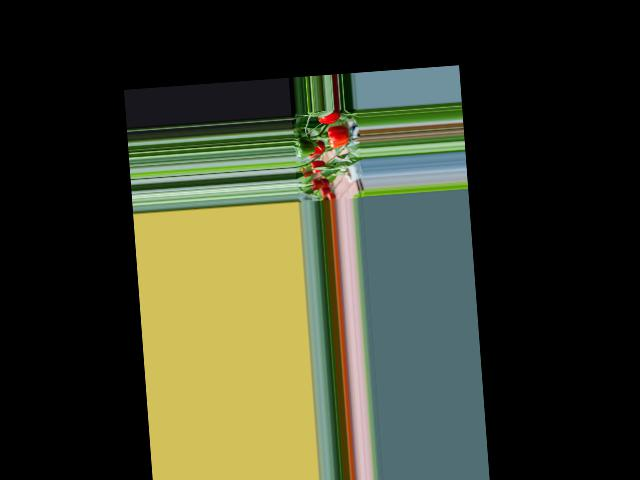bell_pepper: (307, 159, 330, 175)
